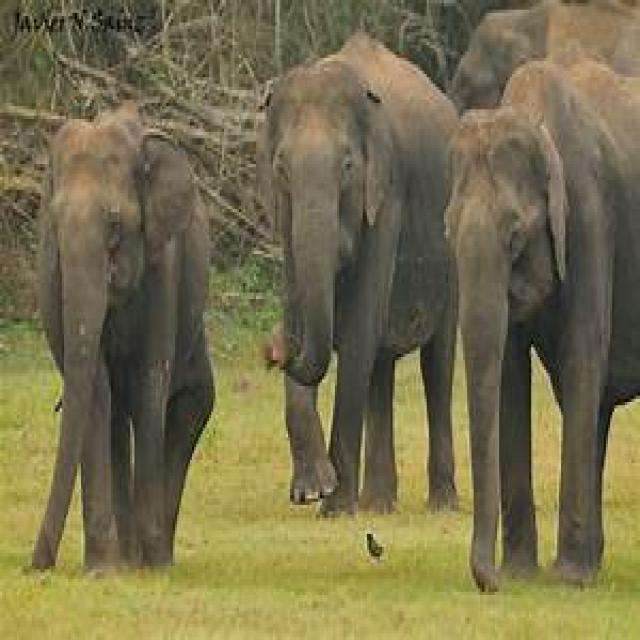elephant: (444, 58, 640, 595), (258, 32, 459, 521), (30, 100, 215, 576)
